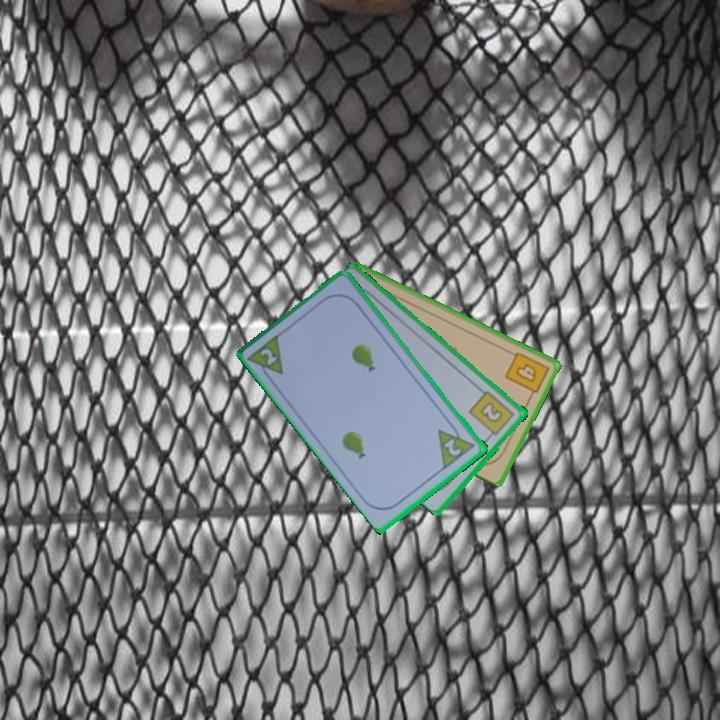2b: (466, 387, 518, 441)
2p: (434, 418, 479, 471), (257, 344, 281, 368)
4b: (501, 348, 552, 401)
